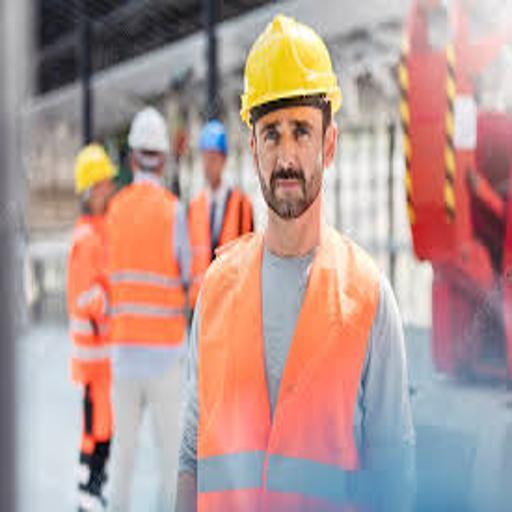Hard_hat: (234, 8, 348, 131)
Humans: (172, 116, 427, 512)
Vest: (204, 194, 403, 512)
